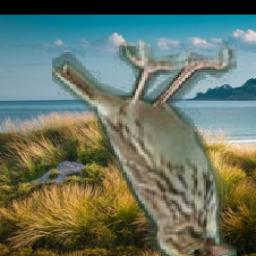Sparrow: (51, 42, 236, 256)
